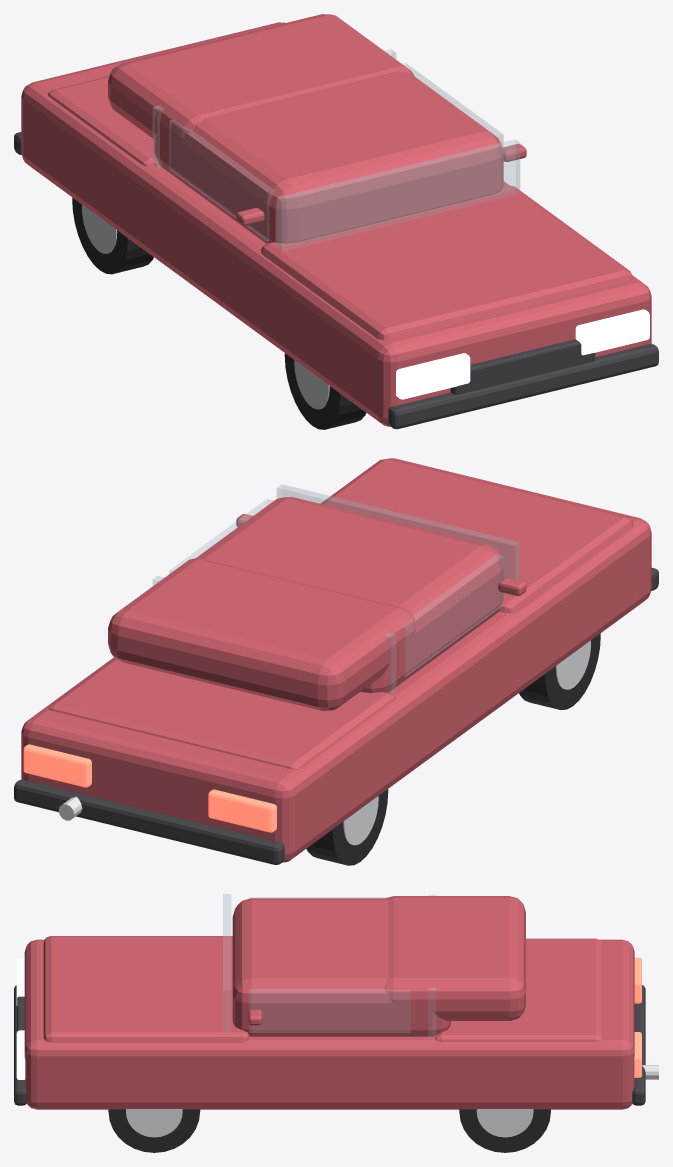
File: car_coupe.glb
3 views of the same model, one above another, from view 1: azimuth 30°, elevation 25°; view 2: azimuth 150°, elevation 25°; view 3: azimuth 270°, elevation 25° (orthographic). The views are drawn at different scales.
Visible parts, largest first — view 1: car_coupe_body_lower, car_coupe_cabin, car_coupe_bonnet, car_coupe_fastback, car_coupe_glass_front, car_coupe_bumper_front, car_coupe_glass_side_l, car_coupe_boot, car_coupe_grille, car_coupe_headlight_l, car_coupe_headlight_r, tyre_fl (+4 smaller); view 2: car_coupe_body_lower, car_coupe_fastback, car_coupe_cabin, car_coupe_bonnet, car_coupe_boot, car_coupe_bumper_rear, car_coupe_glass_side_l, car_coupe_glass_front, car_coupe_taillight_r, car_coupe_taillight_l, tyre_fl, tyre_rl (+3 smaller); view 3: car_coupe_body_lower, car_coupe_cabin, car_coupe_bonnet, car_coupe_fastback, car_coupe_boot, car_coupe_glass_side_r, tyre_rr, tyre_fr, hub_rr, hub_fr, car_coupe_glass_front, car_coupe_bumper_rear (+2 smaller).
Boxes of the visible parts, <box> form: car_coupe_body_lower: <box>21,22,651,426</box>; car_coupe_cabin: <box>154,71,503,243</box>; car_coupe_bonnet: <box>261,185,633,339</box>; car_coupe_fastback: <box>108,14,414,151</box>; car_coupe_glass_front: <box>277,139,519,251</box>; car_coupe_bumper_front: <box>388,344,658,429</box>; car_coupe_glass_side_l: <box>169,120,274,240</box>; car_coupe_boot: <box>48,76,158,166</box>; car_coupe_grille: <box>450,339,595,394</box>; car_coupe_headlight_l: <box>396,353,470,399</box>; car_coupe_headlight_r: <box>575,309,649,355</box>; tyre_fl: <box>284,353,366,429</box>; car_coupe_body_lower: <box>21,458,651,862</box>; car_coupe_fastback: <box>108,558,415,710</box>; car_coupe_cabin: <box>195,497,503,692</box>; car_coupe_bonnet: <box>320,459,633,613</box>; car_coupe_boot: <box>48,658,395,769</box>; car_coupe_bumper_rear: <box>14,779,284,864</box>; car_coupe_glass_side_l: <box>402,555,503,676</box>; car_coupe_glass_front: <box>277,484,519,596</box>; car_coupe_taillight_r: <box>23,744,91,787</box>; car_coupe_taillight_l: <box>208,789,276,832</box>; tyre_fl: <box>519,633,600,709</box>; tyre_rl: <box>306,789,388,865</box>; car_coupe_body_lower: <box>24,939,634,1109</box>; car_coupe_cabin: <box>232,898,451,1036</box>; car_coupe_bonnet: <box>43,936,249,1042</box>; car_coupe_fastback: <box>385,896,525,1020</box>; car_coupe_boot: <box>435,938,602,1041</box>; car_coupe_glass_side_r: <box>249,989,410,1032</box>; tyre_rr: <box>459,1109,550,1152</box>; tyre_fr: <box>108,1109,200,1152</box>; hub_rr: <box>476,1109,533,1137</box>; hub_fr: <box>126,1109,182,1137</box>; car_coupe_glass_front: <box>223,894,230,1031</box>; car_coupe_bumper_rear: <box>632,985,645,1105</box>.
Bounding box in the file's own units: 2.01 × 1.33 × 4.78.
